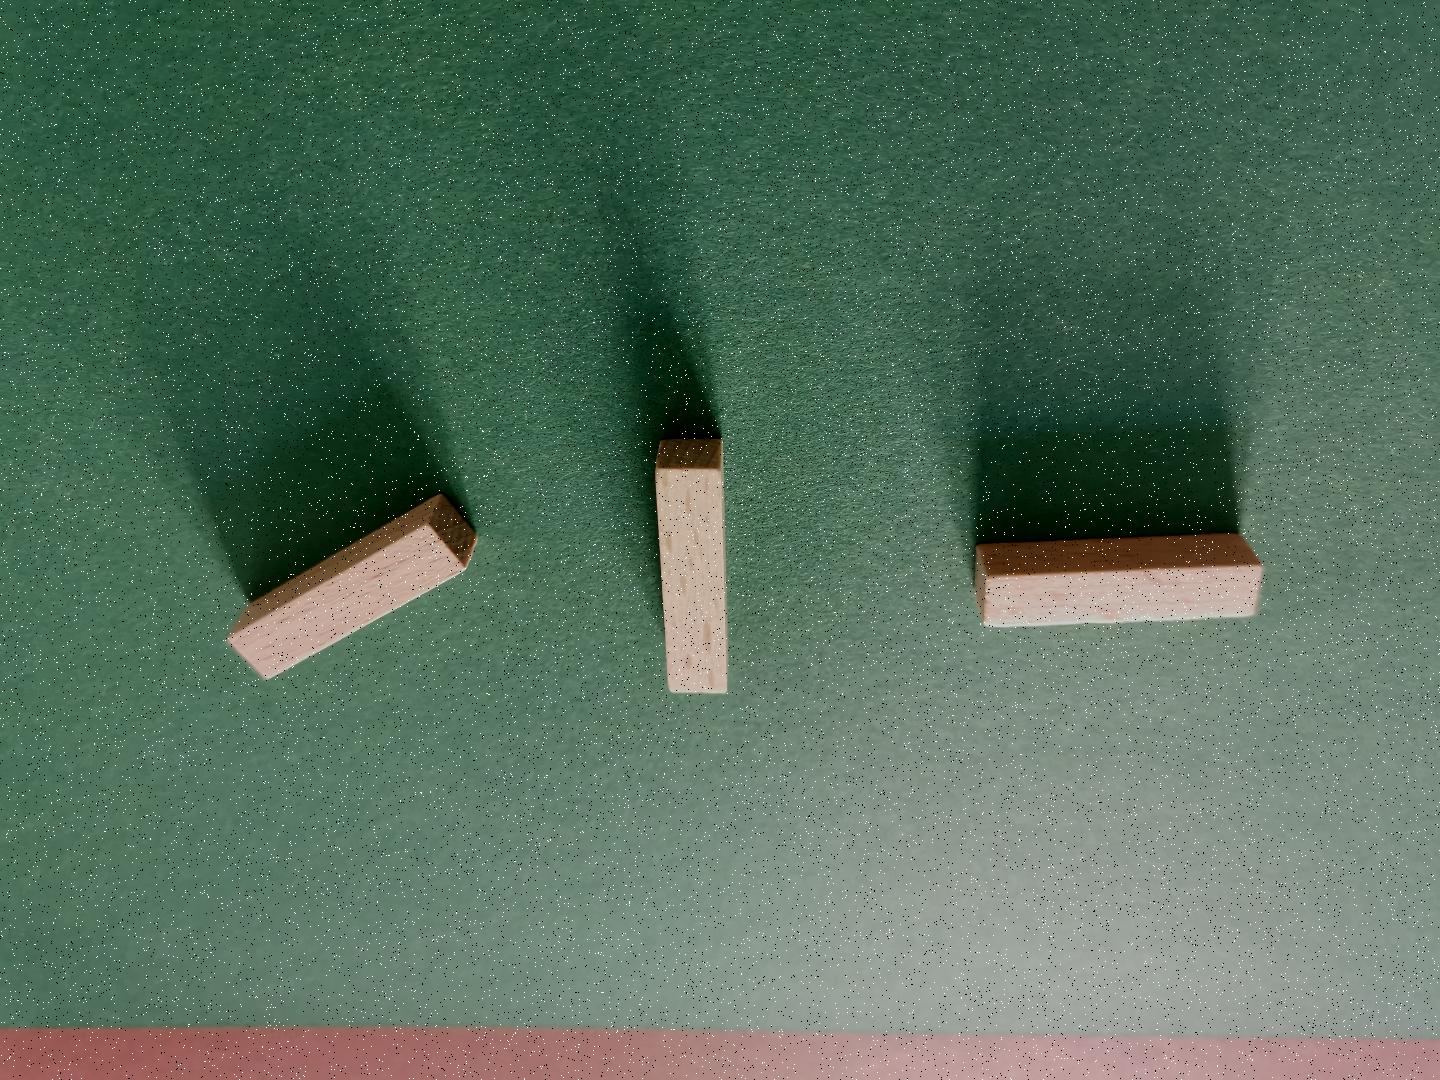jenga: (228, 495, 478, 677), (976, 534, 1263, 627), (655, 439, 728, 694)
